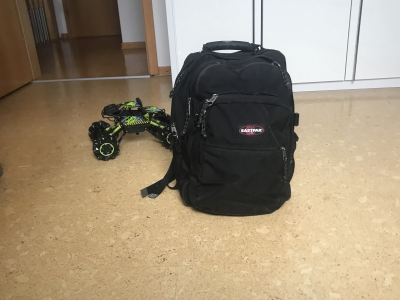remote control car: (85, 95, 176, 162)
